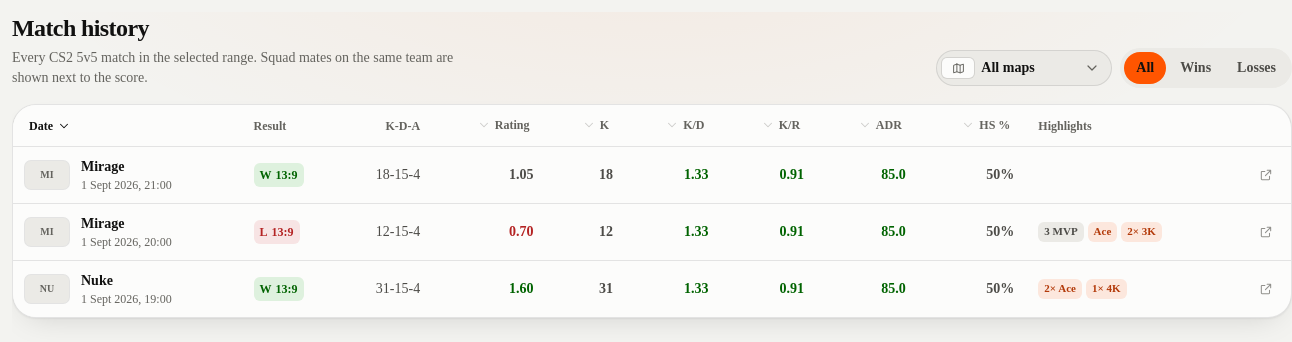
Test: MatchHistory › filters losses and says when nothing matches
The image size is (1292, 342).
Step 1. Click the radio button labelled "Losses" → [1257, 68], box [1237,60,1276,75]
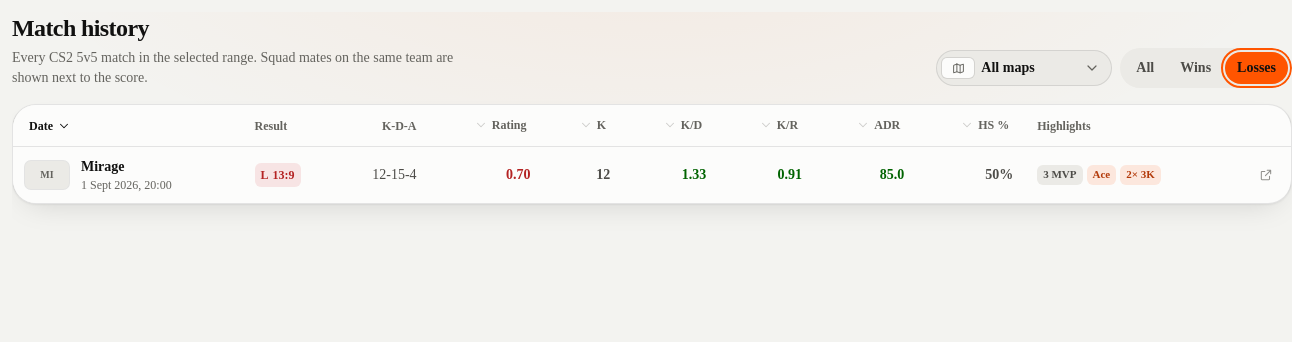
Step 2. Select "Nuke" in the dropdown named "Map" → [1024, 68], box [936,50,1112,86]
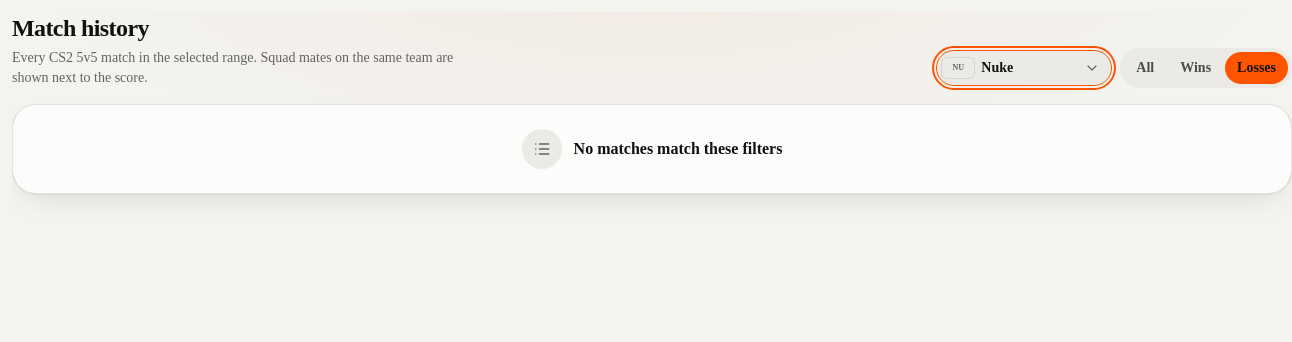
Check: the text "No matches match these filters" is shown, box [574,137,782,161]
